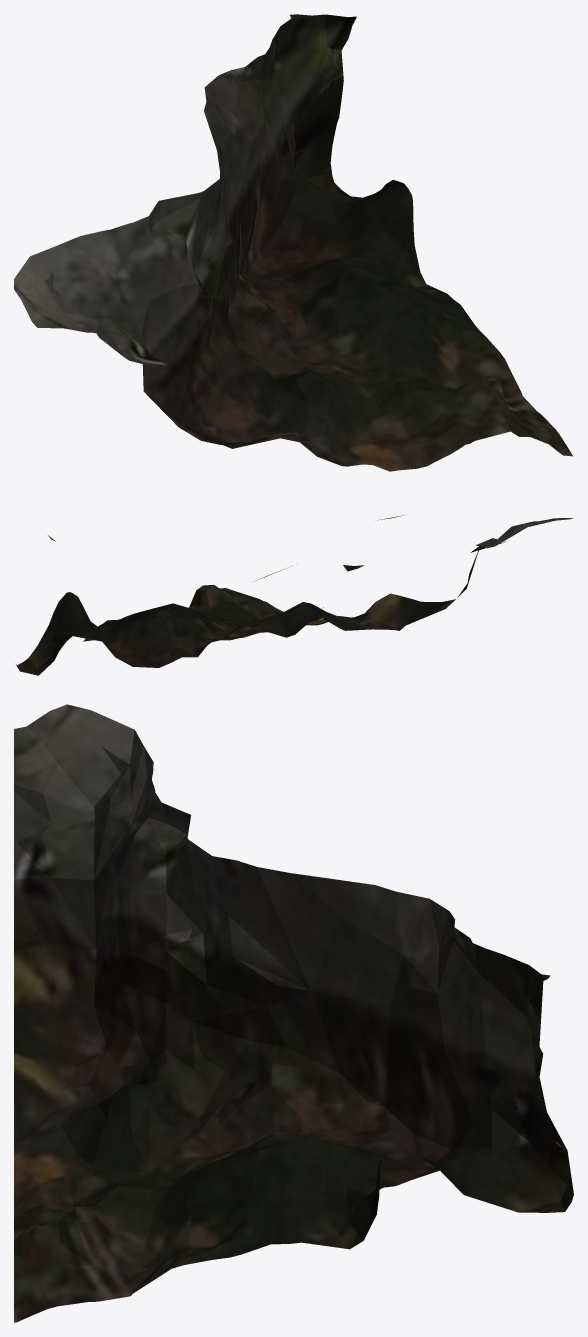
3 renders of one model, top to bottom at view 1: azimuth 30°, elevation 25°; view 2: azimuth 150°, elevation 25°; view 3: azimuth 270°, elevation 25°, orthographic. The views are drawn at different scales.
Bounding box in the file's own units: 0.8373 × 0.419 × 0.6646.
Materials: 2 (2 with a texture image).
